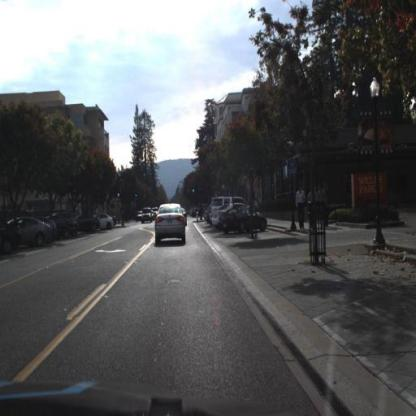car: (5, 213, 58, 251), (154, 200, 189, 249), (218, 205, 267, 237), (42, 210, 79, 242), (210, 196, 248, 225), (211, 201, 249, 230), (19, 218, 53, 250), (71, 213, 102, 236), (92, 212, 115, 233)
pedestrian: (295, 185, 307, 231), (307, 185, 319, 226), (317, 184, 328, 225), (306, 185, 314, 222)
trafficLight-Green: (192, 184, 197, 197)
